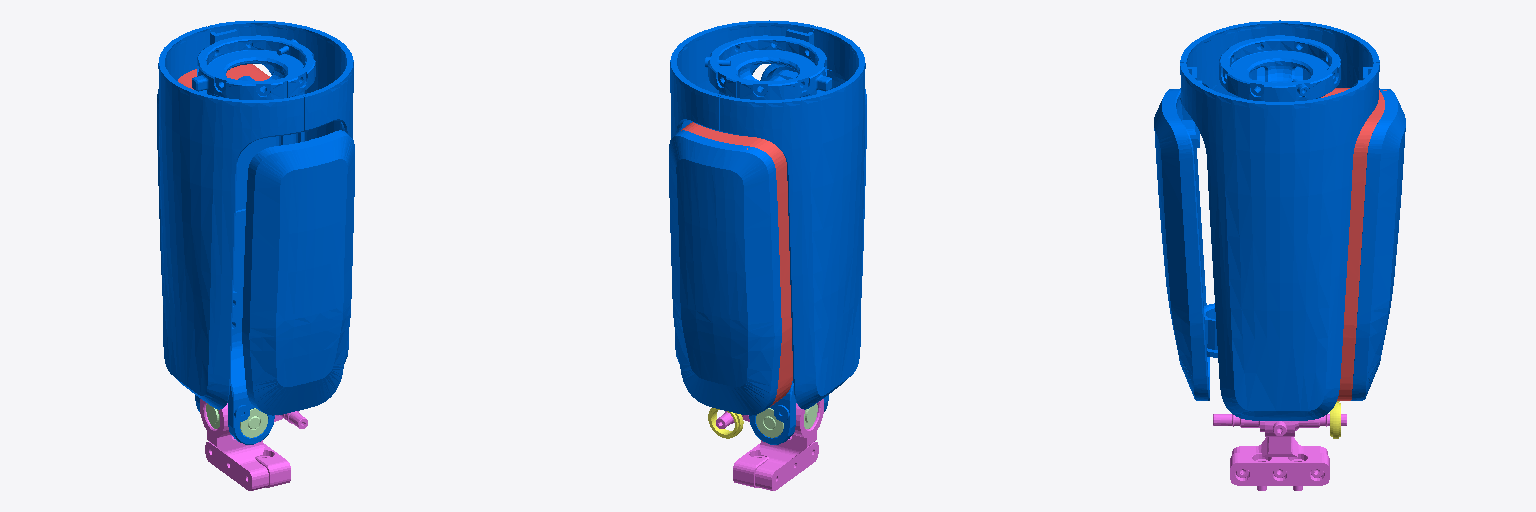
The robot description file, URDF, robot "a2_t2d0_ultra":
<?xml version='1.0' encoding='utf-8'?>
<robot name="a2_t2d0_ultra">
  <link name = "right_arm_link05">
    <inertial>
      <origin xyz="-0.001962 -0.000002 -0.071786" rpy="0 0 0" />
      <mass value="0.260886" />
      <inertia ixx="0.000638" iyy="0.000618" izz="0.000229" ixy="0.000000" ixz="-0.000015" iyz="-0.000000"/>
    </inertial>
    <visual name = "">
      <origin rpy = "0.0 0.0 0.0" xyz = "0.0 0.0 0.0" />
      <geometry>
        <mesh filename = "package://robot_descriptions/models/a2_t2d0_ultra/meshes/compressed/right_arm_link05.stl" />
      </geometry>
      <material name = "">
        <color rgba = "0 0.5 1 1" />
        <texture filename = "" />
      </material>
    </visual>
    <collision>
      <origin xyz="0 0 0" rpy="0 0 0" />
      <geometry>
        <mesh filename="package://robot_descriptions/models/a2_t2d0_ultra/meshes/convex/right_arm_link05_hull.stl"/>
      </geometry>
    </collision>
  </link>
  
  <link name = "right_arm_link06">
    <inertial>
      <origin xyz="-0.00018011 -0.00021701 0.00000000" rpy="0 0 0" />
      <mass value="0.02504627" />
      <inertia ixx="0.00000197" iyy="0.00000173" izz="0.00000071" ixy="-0.00000000" ixz="-0.00000000" iyz="0.00000000"/>
    </inertial>
    <visual name = "">
      <origin rpy = "0.0 0.0 0.0" xyz = "0.0 0.0 0.0" />
      <geometry>
        <mesh filename = "package://robot_descriptions/models/a2_t2d0_ultra/meshes/compressed/right_arm_link06.stl" />
      </geometry>
      <material name = "">
        <color rgba = "0.8 1.0 0.8 1" />
        <texture filename = "" />
      </material>
    </visual>
    <collision>
      <origin xyz="0 0 0" rpy="0 0 0" />
      <geometry>
        <mesh filename="package://robot_descriptions/models/a2_t2d0_ultra/meshes/convex/right_arm_link06_hull.stl"/>
      </geometry>
    </collision>
  </link>
  <joint name = "idx25_right_arm_joint6" type = "revolute">
    <origin xyz="-0.01 0 -0.1595" rpy="-1.5707963 1.5707963 0" />
    <parent link = "right_arm_link05" />
    <child link = "right_arm_link06" />
    <axis xyz = "0 0 1" />
    <limit lower = "-0.785398" upper = "0.785398" velocity = "0.0" effort = "0.0"/>
  </joint>

  
  <link name = "right_arm_link07">
    <inertial>
      <origin xyz="0.01211757 -0.00009712 0.00886324" rpy="0 0 0" />
      <mass value="0.05050219" />
      <inertia ixx="0.00000828" iyy="0.00001140" izz="0.00001294" ixy="-0.00000006" ixz="0.00000179" iyz="0.00000004"/>
    </inertial>
    <visual name = "">
      <origin rpy = "0.0 0.0 0.0" xyz = "0.0 0.0 0.0" />
      <geometry>
        <mesh filename="package://robot_descriptions/models/a2_t2d0_ultra/meshes/compressed/right_arm_link07.stl" />
      </geometry>
      <material name = "">
        <color rgba = "1 0.5 1 1" />
        <texture filename = "" />
      </material>
    </visual>
    <collision>
      <origin xyz="0 0 0" rpy="0 0 0" />
      <geometry>
        <mesh filename="package://robot_descriptions/models/a2_t2d0_ultra/meshes/convex/right_arm_link07_hull.stl"/>
      </geometry>
    </collision>
  </link>
  <joint name = "idx26_right_arm_joint7" type = "revolute">
    <origin xyz="0 0 0" rpy="1.5707963 0 0" />
    <parent link="right_arm_link06" />
    <child link="right_arm_link07" />
    <axis xyz="0 0 1" />
    <limit lower="-0.5236" upper="0.5236" effort="0" velocity="0" />
  </joint>

  <joint name="right_wrist_motor_A_ball" type="fixed">
    <origin xyz="0.005 0.02245 -0.0245" rpy="0 -0.01481371 0" />
    <parent link="right_arm_link05" />
    <child link="right_wrist_motor_A" />
  </joint>
  <link name="right_wrist_motor_A">
    <visual>
      <origin xyz="0 0 0" rpy="0 0 0" />
      <geometry>
        <mesh filename="package://robot_descriptions/models/a2_t2d0_ultra/meshes/compressed/right_wrist_motor_A.stl" />
      </geometry>
      <material name="">
        <color rgba="1 0.4 0.4 1" />
      </material>
    </visual>
    <collision>
      <origin xyz="0 0 0" rpy="0 0 0" />
      <geometry>
        <mesh filename="package://robot_descriptions/models/a2_t2d0_ultra/meshes/convex/right_wrist_motor_A_hull.stl"/>
      </geometry>
    </collision>
  </link>

  <joint name="right_wrist_rod_A_joint" type="fixed">
    <origin xyz="0 0 -0.135015" rpy="0 3.1415926535 0" />
    <parent link="right_wrist_motor_A" />
    <child link="right_wrist_rod_A" />
    <axis xyz="0 0 1" />
    <limit lower="-0.01199" upper="0.01204" effort="0" velocity="0" />
  </joint>
  <link name="right_wrist_rod_A">
    <visual>
      <origin xyz="0 0 0" rpy="0 0 0" />
      <geometry>
        <mesh filename="package://robot_descriptions/models/a2_t2d0_ultra/meshes/compressed/right_wrist_rod_A.stl" />
      </geometry>
      <material name="">
        <color rgba="1 1 0.4 1" />
      </material>
    </visual>
    <collision>
      <origin xyz="0 0 0" rpy="0 0 0" />
      <geometry>
        <mesh filename="package://robot_descriptions/models/a2_t2d0_ultra/meshes/convex/right_wrist_rod_A_hull.stl" />
      </geometry>
    </collision>
  </link>

  <joint name="right_wrist_motor_B_ball" type="fixed">
    <origin xyz="0.005 -0.02245 -0.0245" rpy="0 -0.01481371 0" />
    <parent link="right_arm_link05" />
    <child link="right_wrist_motor_B" />
  </joint>
  <link name="right_wrist_motor_B">
    <visual>
      <origin xyz="0 0 0" rpy="0 0 0" />
      <geometry>
        <mesh filename="package://robot_descriptions/models/a2_t2d0_ultra/meshes/compressed/right_wrist_motor_B.stl"/>
      </geometry>
      <material name="">
        <color rgba="1 0.4 0.4 1" />
      </material>
    </visual>
    <collision>
      <origin xyz="0 0 0" rpy="0 0 0" />
      <geometry>
        <mesh filename="package://robot_descriptions/models/a2_t2d0_ultra/meshes/convex/right_wrist_motor_B_hull.stl"/>
      </geometry>
    </collision>
  </link>

  <joint name="right_wrist_rod_B_joint" type="fixed">
    <origin xyz="0 0 -0.135015" rpy="0 3.1415926535 0" />
    <parent link="right_wrist_motor_B" />
    <child link="right_wrist_rod_B" />
    <axis xyz="0 0 1" />
    <limit lower="-0.01199" upper="0.01204" effort="0" velocity="0" />
  </joint>
  <link name="right_wrist_rod_B">
    <visual>
      <origin xyz="0 0 0" rpy="0 0 0" />
      <geometry>
        <mesh filename="package://robot_descriptions/models/a2_t2d0_ultra/meshes/compressed/right_wrist_rod_B.stl" />
      </geometry>
      <material name="">
        <color rgba="1 1 0.4 1" />
      </material>
    </visual>
    <collision>
      <origin xyz="0 0 0" rpy="0 0 0" />
      <geometry>
        <mesh filename="package://robot_descriptions/models/a2_t2d0_ultra/meshes/convex/right_wrist_rod_B_hull.stl" />
      </geometry>
    </collision>
  </link>
</robot>

--- What the picture shows (computed from the rendered views, not written in the file) ---
Views: 3 orthographic renders of the robot side by side, from view 1: azimuth 30°, elevation 25°; view 2: azimuth 150°, elevation 25°; view 3: azimuth 270°, elevation 25°.
Robot: a2_t2d0_ultra — 7 links, 6 joints (2 revolute, 4 fixed); root link right_arm_link05; default pose: every joint at zero.
Visible links, largest first — view 1: right_arm_link05, right_arm_link07, right_arm_link06, right_wrist_motor_A; view 2: right_arm_link05, right_arm_link07, right_wrist_motor_A, right_arm_link06; view 3: right_arm_link05, right_arm_link07, right_wrist_motor_A.
Link boxes in pixels (x1=…): right_arm_link05: x1=157, y1=20, x2=354, y2=444; right_arm_link07: x1=200, y1=399, x2=307, y2=490; right_arm_link06: x1=206, y1=403, x2=267, y2=437; right_wrist_motor_A: x1=178, y1=64, x2=269, y2=89; right_arm_link05: x1=669, y1=20, x2=866, y2=444; right_arm_link07: x1=716, y1=399, x2=823, y2=490; right_wrist_motor_A: x1=681, y1=122, x2=792, y2=406; right_arm_link06: x1=756, y1=403, x2=817, y2=437; right_arm_link05: x1=1154, y1=20, x2=1405, y2=420; right_arm_link07: x1=1213, y1=414, x2=1346, y2=490; right_wrist_motor_A: x1=1321, y1=88, x2=1386, y2=400.
Bounding box of the posed robot: 0.0803 × 0.1013 × 0.19 m (x, y, z).
5 mesh visuals loaded from 7 distinct referenced files (5 binary STL); not drawn: 2 (reference not matched to a file when rendering).